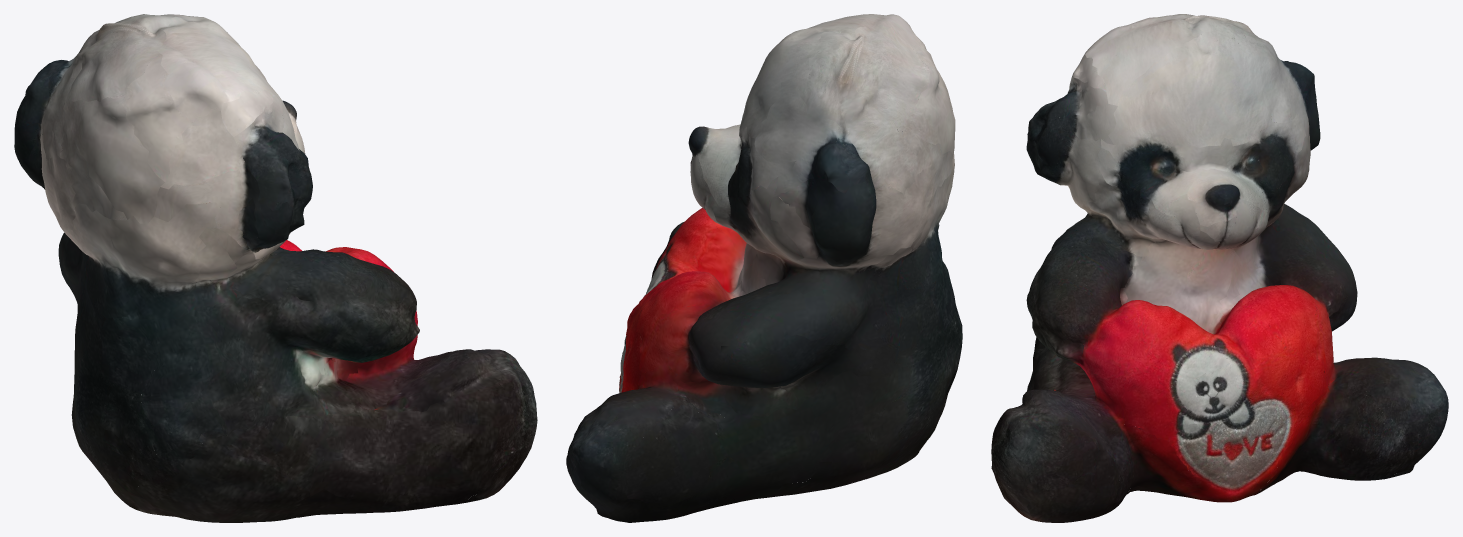
The model's file is Panda.glb.
3 views of the same model, side by side, from view 1: azimuth 30°, elevation 25°; view 2: azimuth 150°, elevation 25°; view 3: azimuth 270°, elevation 25° (orthographic). The views are drawn at different scales.
Parts seen in each view (by area): view 1: Mesh_0; view 2: Mesh_0; view 3: Mesh_0.
Part boxes in pixels (left/top/right/bottom): Mesh_0: left=14, top=14, right=537, bottom=522; Mesh_0: left=566, top=14, right=962, bottom=522; Mesh_0: left=991, top=14, right=1448, bottom=522.
Size of the model in its own units: 1.05 by 1.23 by 1.29.
1 material, 1 textured.
